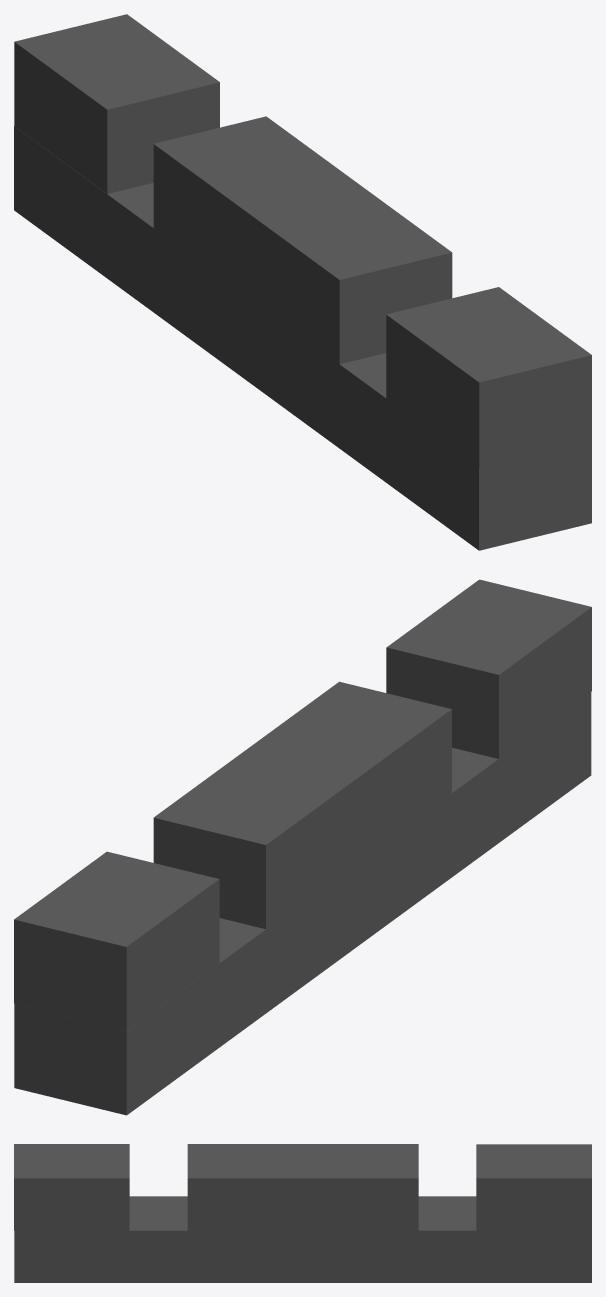
Rendered from torreBorde.obj.
3 renders of one model, top to bottom at view 1: azimuth 30°, elevation 25°; view 2: azimuth 150°, elevation 25°; view 3: azimuth 270°, elevation 25°, orthographic. The views are drawn at different scales.
Visible parts, largest first — view 1: Cube.003; view 2: Cube.003; view 3: Cube.003.
Part boxes in pixels (x1,y1,x2,y2): Cube.003: (14,14,591,550); Cube.003: (14,579,591,1115); Cube.003: (14,1144,591,1282).
Bounding box in the file's own units: 1.41 × 2 × 10.01.
4 materials, 4 textured.
